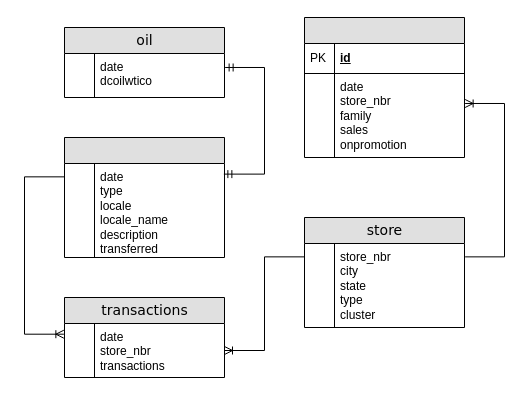
Image size: 530x398. Some labels were removed from this diagram. The shapes that lost their labels are listed below. From the top down, each one's box as (x1, y1, x2, y2) in pixels, then its label:
(304, 16, 464, 158): train/test
(64, 136, 224, 258): holiday_events
